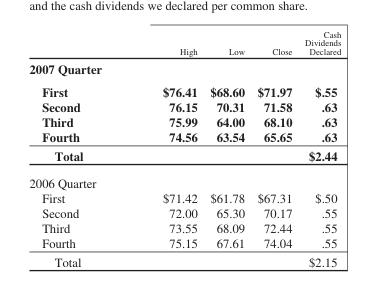table: (28, 28, 340, 269)
table column: (28, 28, 122, 269), (122, 28, 203, 269), (203, 28, 250, 269), (250, 28, 297, 269), (297, 28, 340, 269)
table column header: (28, 28, 340, 58)
table projected row header: (28, 58, 340, 80), (28, 169, 340, 190)
table row: (28, 28, 340, 58), (28, 146, 340, 169), (28, 58, 340, 80), (28, 169, 340, 190), (28, 80, 340, 99), (28, 129, 340, 146), (28, 235, 340, 252), (28, 252, 340, 269), (28, 99, 340, 114), (28, 114, 340, 129), (28, 190, 340, 205), (28, 205, 340, 220), (28, 220, 340, 235)
